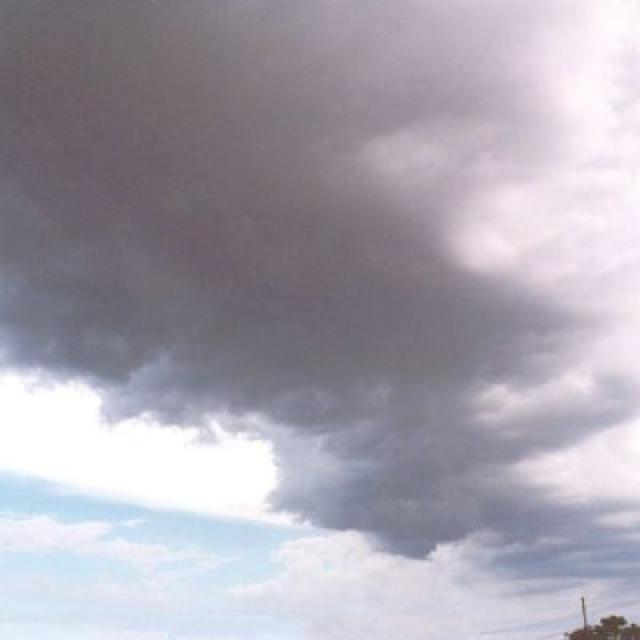Cs: (1, 58, 640, 521)
